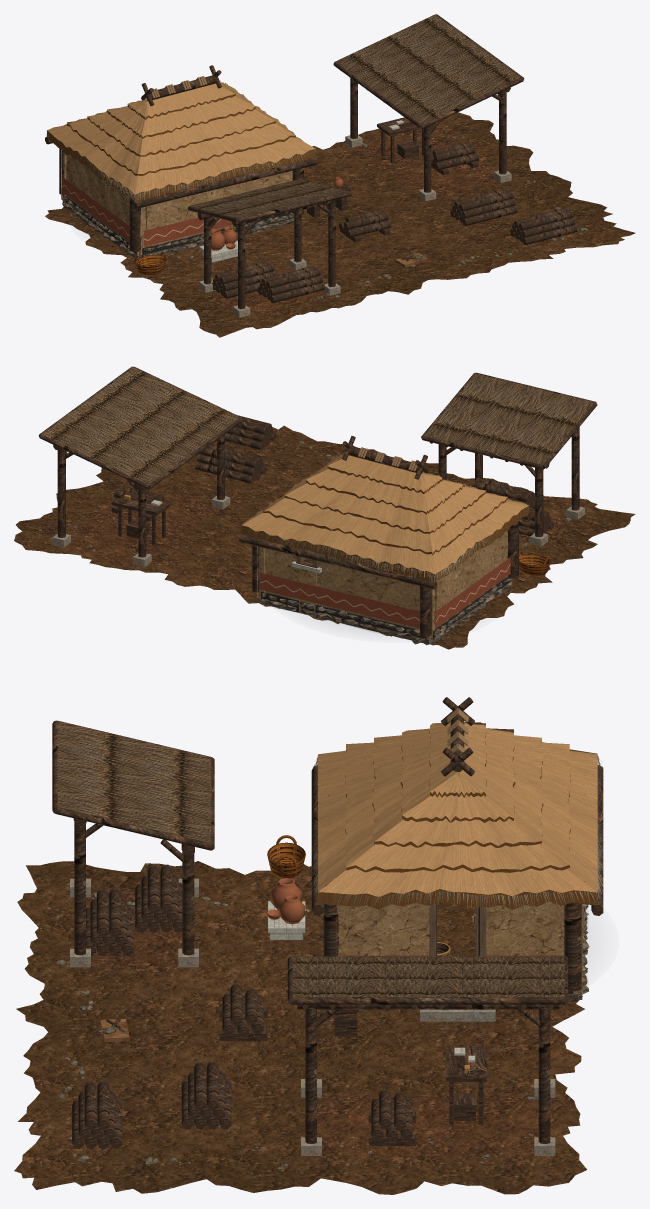
The model's file is lumber@1.glb.
3 views of the same model, one above another, from view 1: azimuth 30°, elevation 25°; view 2: azimuth 150°, elevation 25°; view 3: azimuth 270°, elevation 25° (orthographic). The views are drawn at different scales.
Parts seen in each view (by area): view 1: part_1, part_8, part_19, part_13, part_11, part_5, part_20, part_23, part_4, part_12, part_21, part_22 (+2 smaller); view 2: part_1, part_13, part_19, part_8, part_5, part_11, part_20, part_23, part_4, part_22, part_21, part_12 (+1 smaller); view 3: part_1, part_19, part_8, part_13, part_11, part_5, part_20, part_12, part_21, part_0, part_18, part_17 (+4 smaller).
Boxes of the visible parts, x1,y1,x2,y2 form: part_1: [45, 112, 635, 337]; part_8: [45, 14, 577, 309]; part_19: [47, 82, 315, 194]; part_13: [190, 14, 521, 218]; part_11: [209, 128, 498, 314]; part_5: [61, 149, 302, 255]; part_20: [47, 81, 315, 201]; part_23: [62, 177, 232, 246]; part_4: [62, 196, 423, 259]; part_12: [199, 125, 511, 317]; part_21: [46, 93, 316, 203]; part_22: [63, 194, 293, 257]; part_1: [14, 425, 635, 649]; part_13: [41, 367, 593, 484]; part_19: [242, 452, 528, 574]; part_8: [38, 366, 597, 636]; part_5: [256, 531, 514, 639]; part_11: [66, 488, 573, 562]; part_20: [241, 454, 529, 581]; part_23: [260, 557, 510, 628]; part_4: [257, 578, 512, 645]; part_22: [261, 576, 511, 639]; part_21: [240, 466, 529, 582]; part_12: [52, 485, 584, 566]; part_1: [14, 861, 586, 1194]; part_19: [318, 722, 597, 896]; part_8: [52, 697, 603, 1149]; part_13: [57, 721, 564, 997]; part_11: [86, 893, 538, 1155]; part_5: [336, 901, 583, 993]; part_20: [318, 723, 597, 909]; part_12: [70, 878, 555, 1155]; part_21: [310, 755, 603, 909]; part_0: [437, 902, 475, 956]; part_18: [266, 878, 305, 924]; part_17: [267, 835, 305, 878].
Size of the model in its own units: 9.26 by 2.85 by 7.16.
24 materials, 18 textured.
